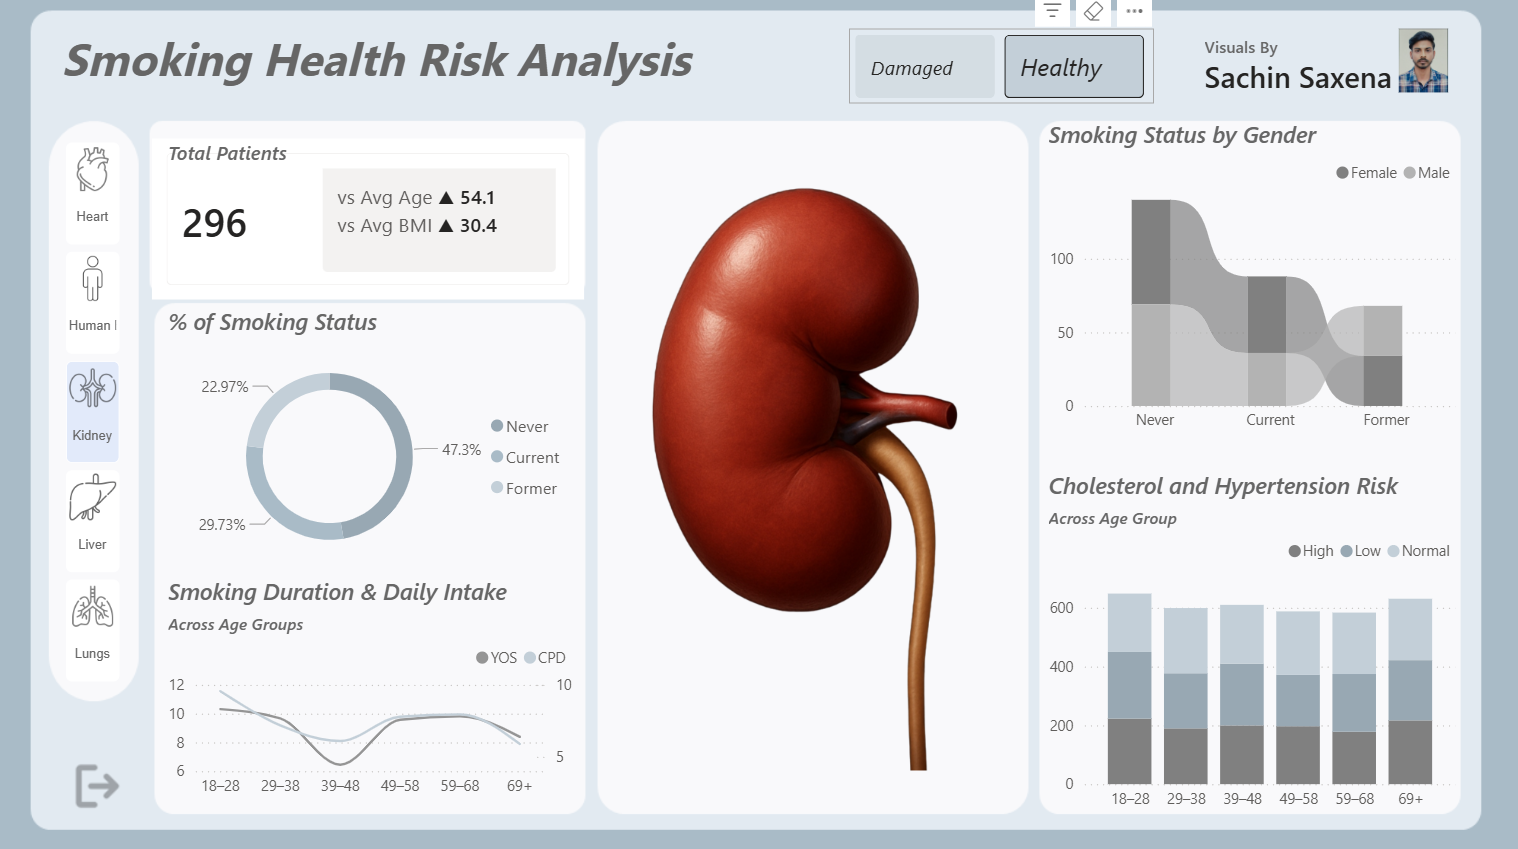

The dashboard page shown, as its layout file describes it:
{"tool":"powerbi","page":{"name":"Page 1","canvas":[1280,720],"ordinal":0},"visuals":[{"type":"cardVisual","fields":{"Data":["CountNonNull(health_dataset.Patient_ID)"]},"box":[134.8,118.1,366.4,143.8],"z":0},{"type":"textbox","box":[148.4,118.1,249.8,57.5],"z":1000},{"type":"advancedSlicerVisual","fields":{"Values":["condition.Organ_Condition"]},"box":[714.7,33.3,249.8,62.1],"z":2000},{"type":"image","box":[513.3,118.1,346.8,557.2],"z":3000},{"type":"ChicletSlicer1448559807354","fields":{"Category":["Organs.Organ"],"Image":["Organs.Icon_URL"]},"box":[60.6,118.1,74.2,475.5],"z":4000},{"type":"donutChart","title":"% of Smoking Status","fields":{"Category":["health_dataset.Smoking_Status"],"Y":["CountNonNull(health_dataset.Smoking_Status)"]},"box":[148.4,262,342.2,222.6],"z":5000},{"type":"lineChart","title":"Smoking Duration & Daily Intake","fields":{"Category":["health_dataset.Age Group"],"Y":["Avg(health_dataset.Years_of_Smoking)"],"Y2":["Avg(health_dataset.Cigarettes_Per_Day)"]},"box":[148.4,484.5,342.2,190.8],"z":6000},{"type":"ribbonChart","title":"Smoking Status by Gender","fields":{"Category":["health_dataset.Smoking_Status"],"Y":["CountNonNull(health_dataset.Patient_ID)"],"Series":["health_dataset.Gender"]},"box":[873.7,107.5,345.2,266.5],"z":7000},{"type":"columnChart","title":"Cholesterol and Hypertension Risk","fields":{"Category":["health_dataset.Age Group"],"Y":["Avg(health_dataset.Cholesterol_Level)"],"Series":["health_dataset.BP_Risk"]},"box":[873.7,396.7,345.2,289.2],"z":8000},{"type":"textbox","box":[60.6,27.3,579.9,80.3],"z":9000},{"type":"textbox","box":[1002.4,33.3,277.1,307.4],"z":10000},{"type":"image","box":[1141.7,33.3,90.9,53],"z":11000}]}

Visuals, with their boxes on the page's 1280x720 design canvas (x1, y1, x2, y2). These are canvas units, not pixel positions in the 1518x849 screenshot, which may show the page scaled, cropped or inside an application window:
cardVisual - CountNonNull(health_dataset.Patient_ID): [135, 118, 501, 262]
textbox: [148, 118, 398, 176]
advancedSlicerVisual - condition.Organ_Condition: [715, 33, 964, 95]
image: [513, 118, 860, 675]
ChicletSlicer1448559807354 - Organs.Organ x Organs.Icon_URL: [61, 118, 135, 594]
"% of Smoking Status" donutChart: [148, 262, 491, 485]
"Smoking Duration & Daily Intake" lineChart: [148, 484, 491, 675]
"Smoking Status by Gender" ribbonChart: [874, 108, 1219, 374]
"Cholesterol and Hypertension Risk" columnChart: [874, 397, 1219, 686]
textbox: [61, 27, 640, 108]
textbox: [1002, 33, 1280, 341]
image: [1142, 33, 1233, 86]
